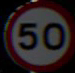Speed limit: (7, 1, 69, 62)
